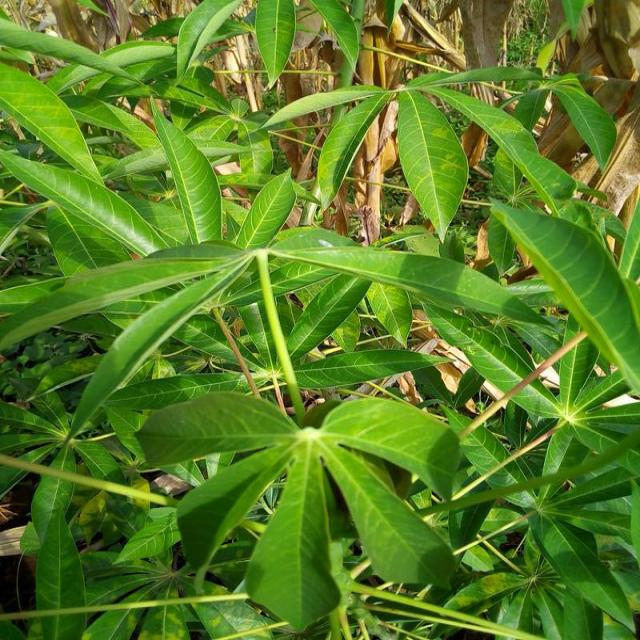cassava leaf: (2, 1, 639, 637), (137, 387, 462, 632), (397, 86, 470, 244)
